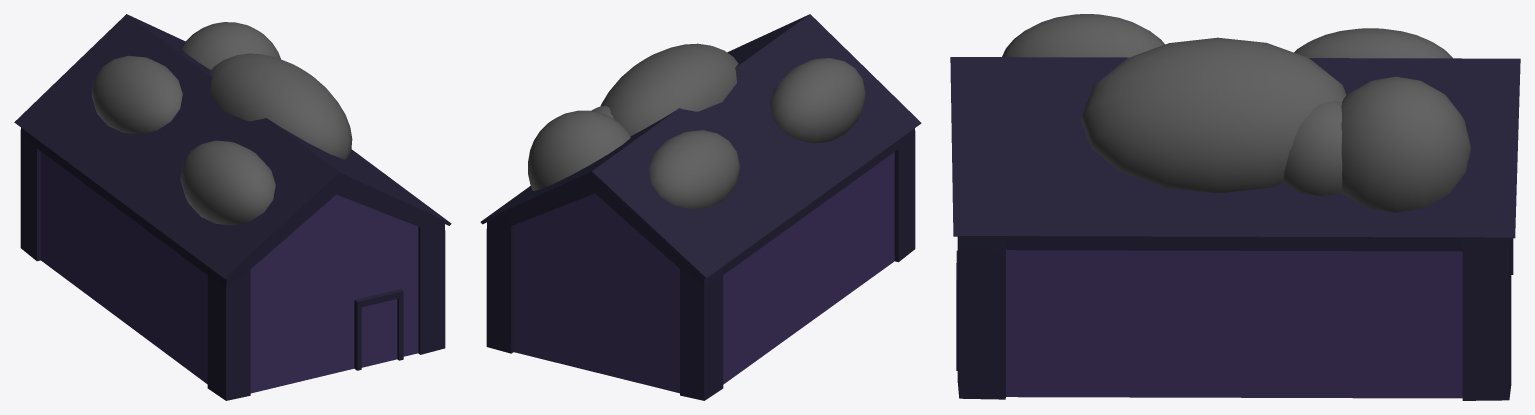
Rendered from BigHouseForestUneasy.fbx.
3 renders of one model, left to right at view 1: azimuth 30°, elevation 25°; view 2: azimuth 150°, elevation 25°; view 3: azimuth 270°, elevation 25°, orthographic. The views are drawn at different scales.
Parts seen in each view (by area): view 1: BigHouseForestUneasy; view 2: BigHouseForestUneasy; view 3: BigHouseForestUneasy.
Part boxes in pixels (bbox=[...]): BigHouseForestUneasy: bbox=[14, 14, 451, 400]; BigHouseForestUneasy: bbox=[480, 14, 921, 400]; BigHouseForestUneasy: bbox=[950, 14, 1520, 400].
Size of the model in its own units: 9.71 by 15.78 by 9.23.
